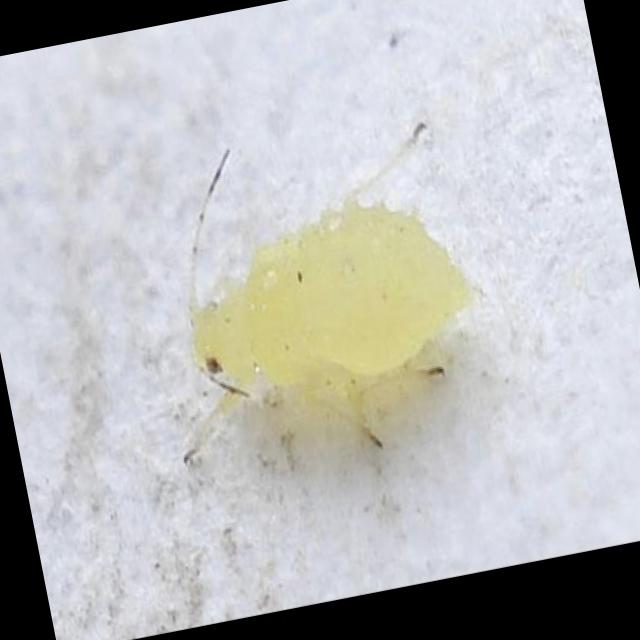Aphids: (82, 48, 588, 561)
